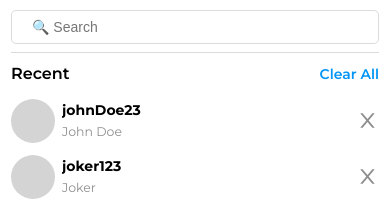
Test case: Search Component › will delete a recent search result when the delete icon for it is clicked
expect the text "John Doe" is shown: met, box [62,124,122,139]
expect the text "johnDoe23" is shown: met, box [62,101,141,119]
Click the icon with test id "Delete Icon" in the row of "johnDoe23": (368, 121) [356,108,379,133]
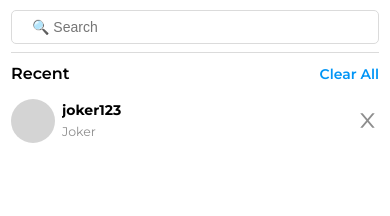
expect the text "joker123" is shown: met, box [62,101,121,119]
expect the text "John Doe" is gone: met
expect the text "johnDoe23" is gone: met
